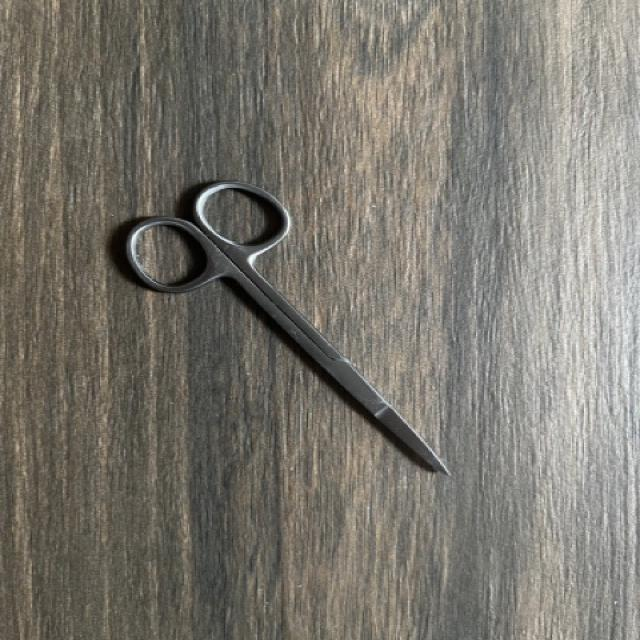Gunting: (107, 168, 466, 493)
